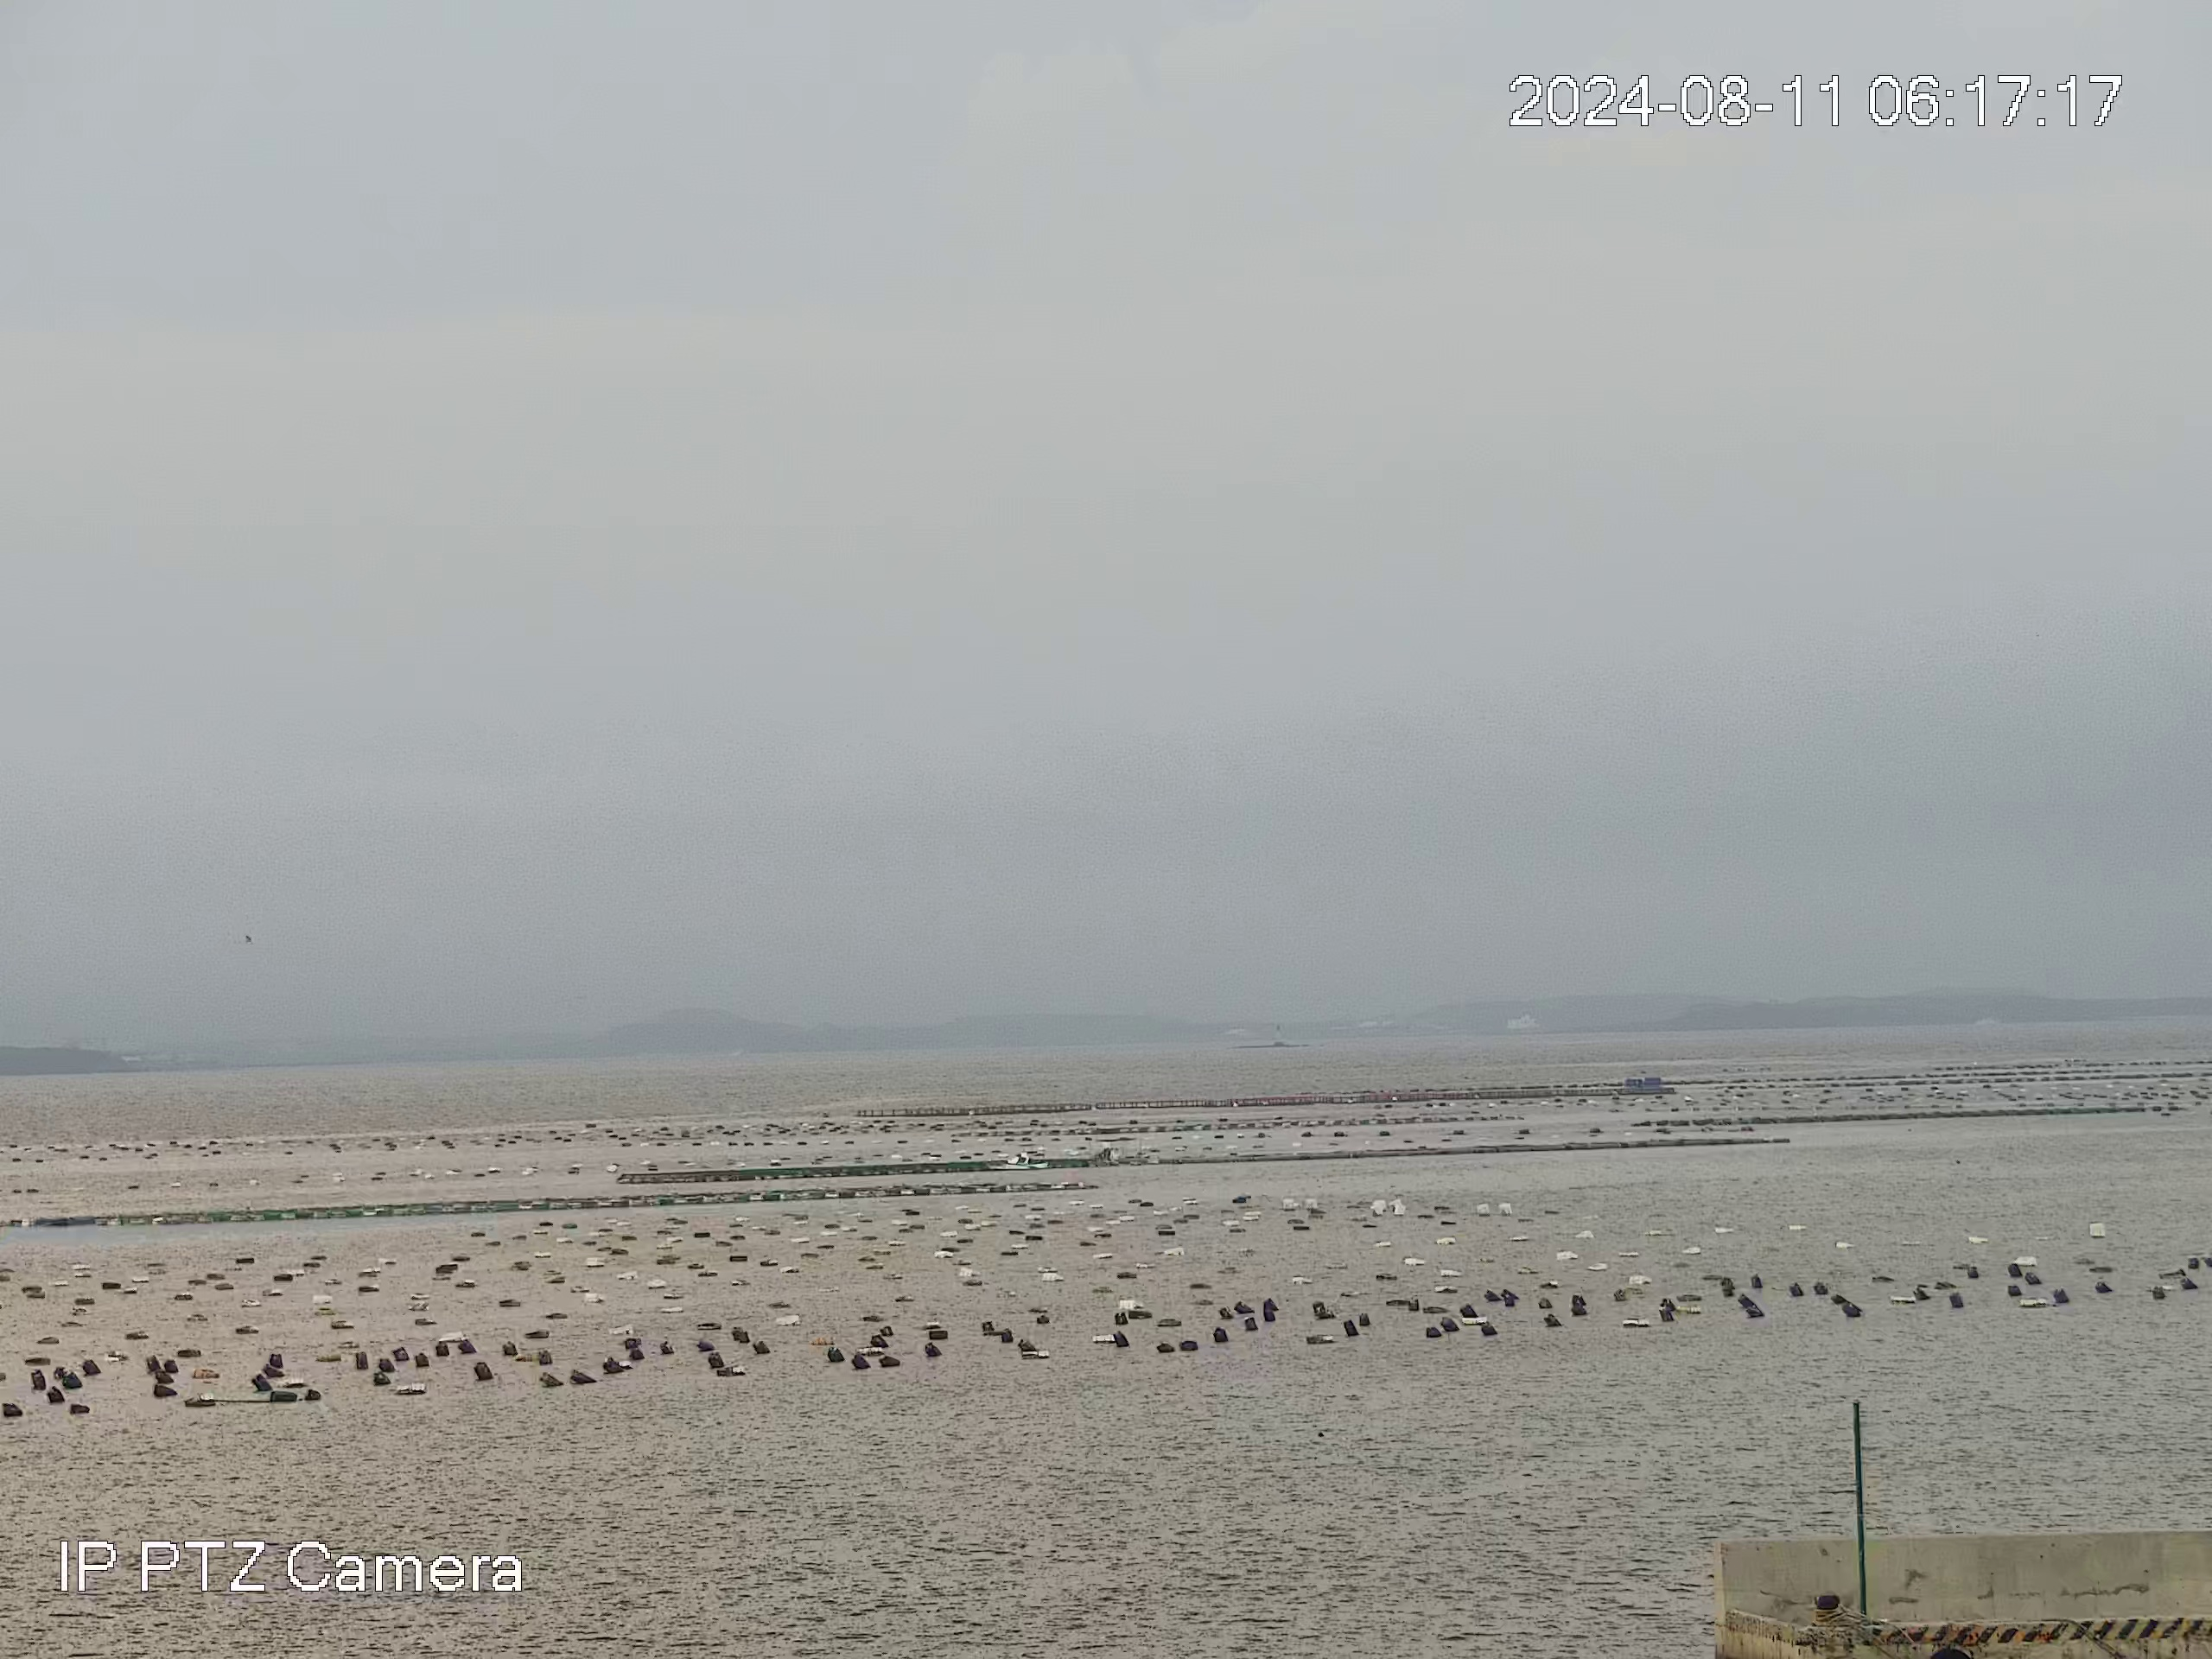boat: (982, 1148, 1052, 1173)
